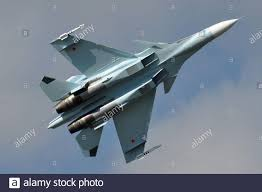maybay_muctieu: (47, 5, 239, 163)
ten_lua: (59, 18, 85, 40)
